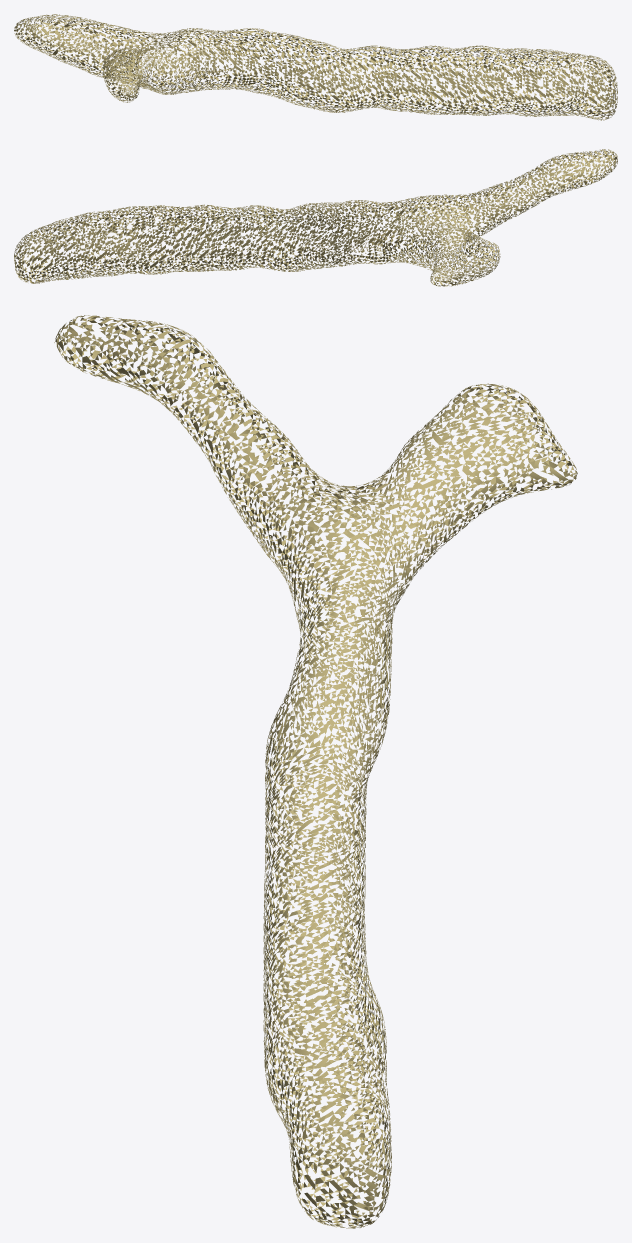
The model's file is morph_008.glb.
3 views of the same model, one above another, from view 1: azimuth 30°, elevation 25°; view 2: azimuth 150°, elevation 25°; view 3: azimuth 270°, elevation 25° (orthographic). The views are drawn at different scales.
Size of the model in its own units: 141 by 53.36 by 60.13.
